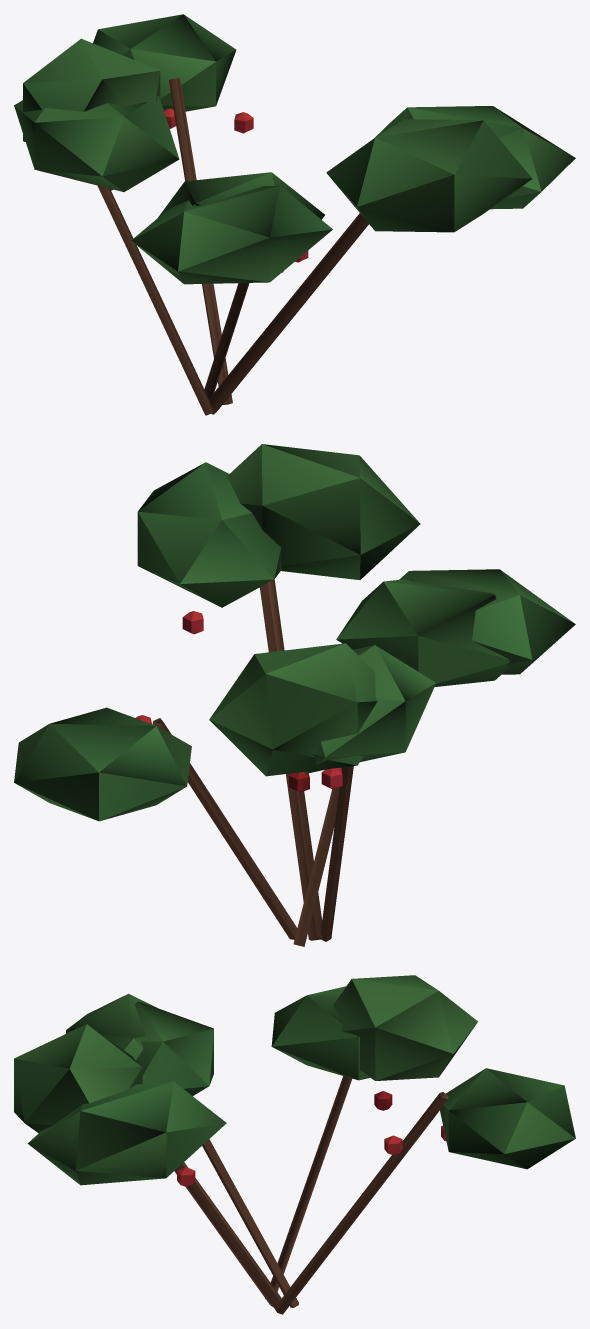
Rendered from standard-lod2.glb.
3 renders of one model, top to bottom at view 1: azimuth 30°, elevation 25°; view 2: azimuth 150°, elevation 25°; view 3: azimuth 270°, elevation 25°, orthographic. The views are drawn at different scales.
Visible parts, largest first — view 1: redberry-stems-leaves-fruit; view 2: redberry-stems-leaves-fruit; view 3: redberry-stems-leaves-fruit.
Part boxes in pixels (x1=…): redberry-stems-leaves-fruit: x1=14, y1=14, x2=575, y2=415; redberry-stems-leaves-fruit: x1=14, y1=444, x2=575, y2=946; redberry-stems-leaves-fruit: x1=14, y1=975, x2=575, y2=1314.
Bounding box in the file's own units: 1.68 × 1.36 × 2.23.
